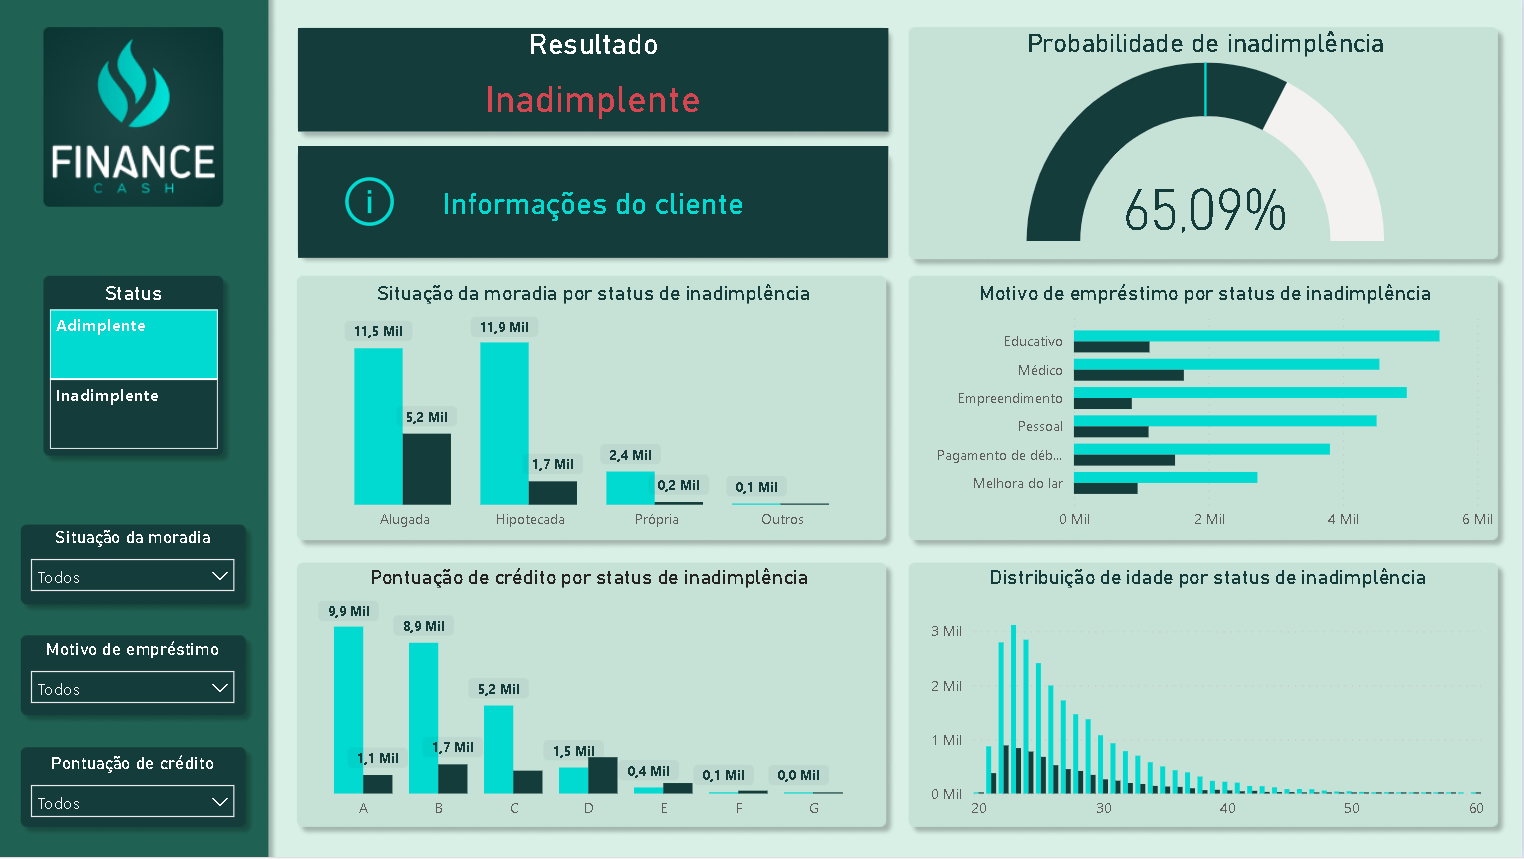

The page's visual inventory and layout, read from the dashboard file:
{"tool":"powerbi","page":{"name":"Dashboard","canvas":[1280,720],"ordinal":0},"visuals":[{"type":"group","id":"g1","title":"Grupo 1","box":[250.8,122.8,496.4,93.8],"z":0,"group":"g2"},{"type":"card","fields":{"Values":["Consulta_idade.Medida"]},"box":[250.8,122.8,496.4,93.8],"z":0,"group":"g1"},{"type":"clusteredColumnChart","title":"Distribuição de idade por status de inadimplência","fields":{"Category":["Analise_risco_dados.person_age"],"Y":["CountNonNull(Analise_risco_dados.person_age)"],"Series":["Analise_risco_dados.loan_status"]},"box":[777.9,474.4,475.3,221],"z":0},{"type":"clusteredBarChart","title":"Motivo de empréstimo por status de inadimplência","fields":{"Category":["Analise_risco_dados.loan_intent"],"Y":["CountNonNull(Analise_risco_dados.loan_intent)"],"Series":["Analise_risco_dados.loan_status"]},"box":[767.4,235.9,492.9,216.6],"z":1000},{"type":"clusteredColumnChart","title":"Pontuação de crédito por status de inadimplência","fields":{"Category":["Analise_risco_dados.loan_grade"],"Y":["CountNonNull(Analise_risco_dados.loan_grade)"],"Series":["Analise_risco_dados.loan_status"]},"box":[250.8,474.4,489.4,221],"z":2000},{"type":"clusteredColumnChart","title":"Situação da moradia por status de inadimplência","fields":{"Category":["Analise_risco_dados.person_home_ownership"],"Y":["CountNonNull(Analise_risco_dados.person_home_ownership)"],"Series":["Analise_risco_dados.loan_status"]},"box":[250.8,235.9,497.2,216.6],"z":3000},{"type":"gauge","title":"Probabilidade de inadimplência","fields":{"Y":["Sum(v1=24 0&v2=55782 0&v3=Rent&v4=3 0&v5=Homeimprovement&v6=A&v7=17000 0&v8=7 51&v9=.probability_1)"],"TargetValue":["Consulta_idade.Destino"]},"box":[767.4,23.7,492.9,184.2],"z":4000},{"type":"card","title":"Resultado","fields":{"Values":["Min(v1=24 0&v2=55782 0&v3=Rent&v4=3 0&v5=Homeimprovement&v6=A&v7=17000 0&v8=7 51&v9=.Resultado)"]},"box":[250.8,23.7,496.4,86.8],"z":5000},{"type":"treemap","title":"Status","fields":{"Values":["Consulta_idade.Legenda"],"Group":["Analise_risco_dados.loan_status"]},"box":[37.7,235.9,150.8,146.5],"z":6000},{"type":"slicer","title":"Motivo de empréstimo","fields":{"Values":["Analise_risco_dados.loan_intent"]},"box":[16.7,537.6,191.2,64.9],"z":7000},{"type":"slicer","title":"Situação da moradia","fields":{"Values":["Analise_risco_dados.person_home_ownership"]},"box":[16.7,443.8,191.2,61.4],"z":8000},{"type":"slicer","title":"Pontuação de crédito","fields":{"Values":["Analise_risco_dados.loan_grade"]},"box":[16.7,633.2,191.2,62.3],"z":9000},{"type":"group","id":"g2","title":"Grupo 2","box":[250.8,122.8,496.4,93.8],"z":10000},{"type":"actionButton","box":[285,142.9,53.5,53.5],"z":11000}]}

Visuals, with their boxes in screenshot pixels (x1, y1, x2, y2), scaled from the page's 1280x720 canvas onto the 1524x859 screenshot:
"Grupo 1" group: (299, 147, 890, 258)
card - Consulta_idade.Medida: (299, 147, 890, 258)
"Distribuição de idade por status de inadimplência" clusteredColumnChart: (926, 566, 1492, 830)
"Motivo de empréstimo por status de inadimplência" clusteredBarChart: (914, 281, 1501, 540)
"Pontuação de crédito por status de inadimplência" clusteredColumnChart: (299, 566, 881, 830)
"Situação da moradia por status de inadimplência" clusteredColumnChart: (299, 281, 891, 540)
"Probabilidade de inadimplência" gauge: (914, 28, 1501, 248)
"Resultado" card: (299, 28, 890, 132)
"Status" treemap: (45, 281, 224, 456)
"Motivo de empréstimo" slicer: (20, 641, 248, 719)
"Situação da moradia" slicer: (20, 529, 248, 603)
"Pontuação de crédito" slicer: (20, 755, 248, 830)
"Grupo 2" group: (299, 147, 890, 258)
actionButton: (339, 170, 403, 234)
